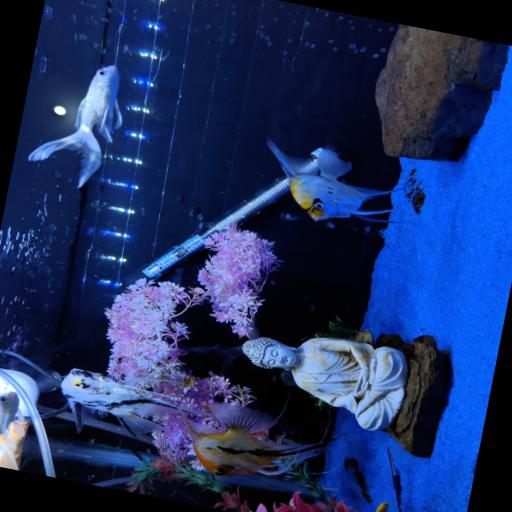Fish: (28, 66, 122, 187), (268, 140, 406, 222), (181, 403, 327, 477), (61, 369, 179, 435), (0, 392, 24, 469), (376, 502, 388, 511)
